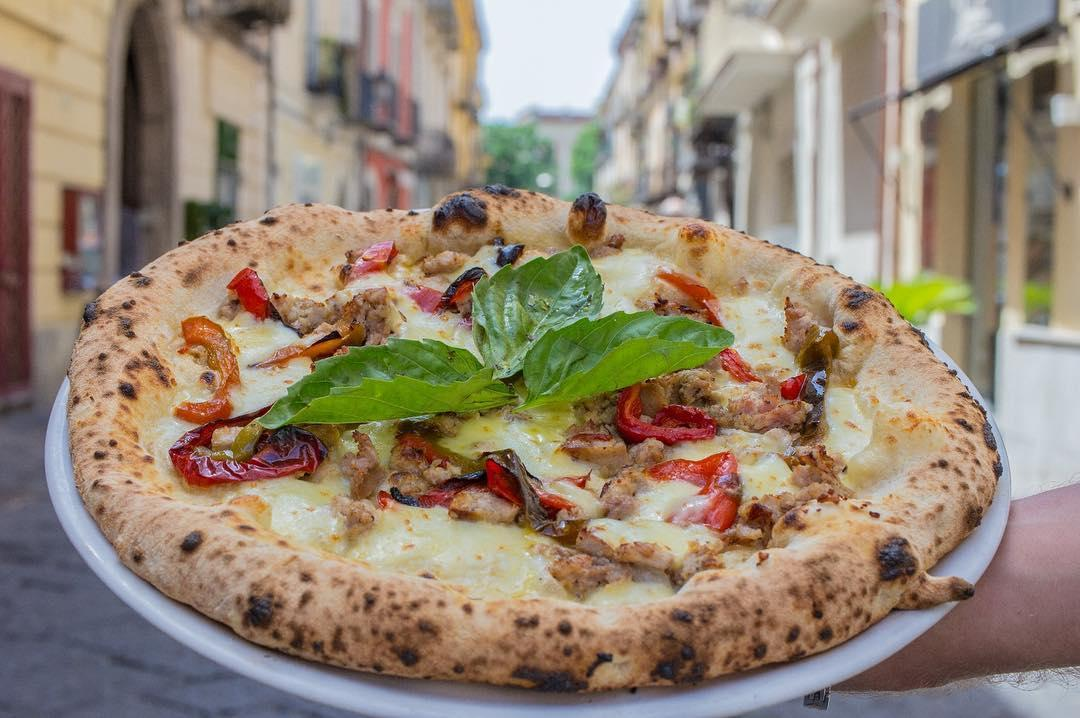Basil: (514, 315, 744, 417), (279, 350, 516, 424), (464, 250, 602, 361)
Cheese: (314, 505, 535, 580), (590, 247, 658, 317), (715, 294, 786, 361), (234, 327, 296, 399), (395, 287, 461, 347), (832, 400, 877, 456)
Chicken: (567, 427, 669, 529), (659, 367, 806, 429), (539, 532, 665, 587), (270, 279, 402, 327), (327, 434, 390, 529), (779, 450, 841, 508)
Peppers: (160, 420, 314, 492), (384, 435, 526, 491), (170, 307, 241, 407), (657, 452, 739, 519), (610, 382, 713, 435), (652, 254, 715, 315), (412, 282, 481, 323), (230, 257, 274, 312), (719, 340, 757, 381), (350, 245, 397, 272), (777, 375, 811, 399)
Pizza: (72, 185, 999, 693)
